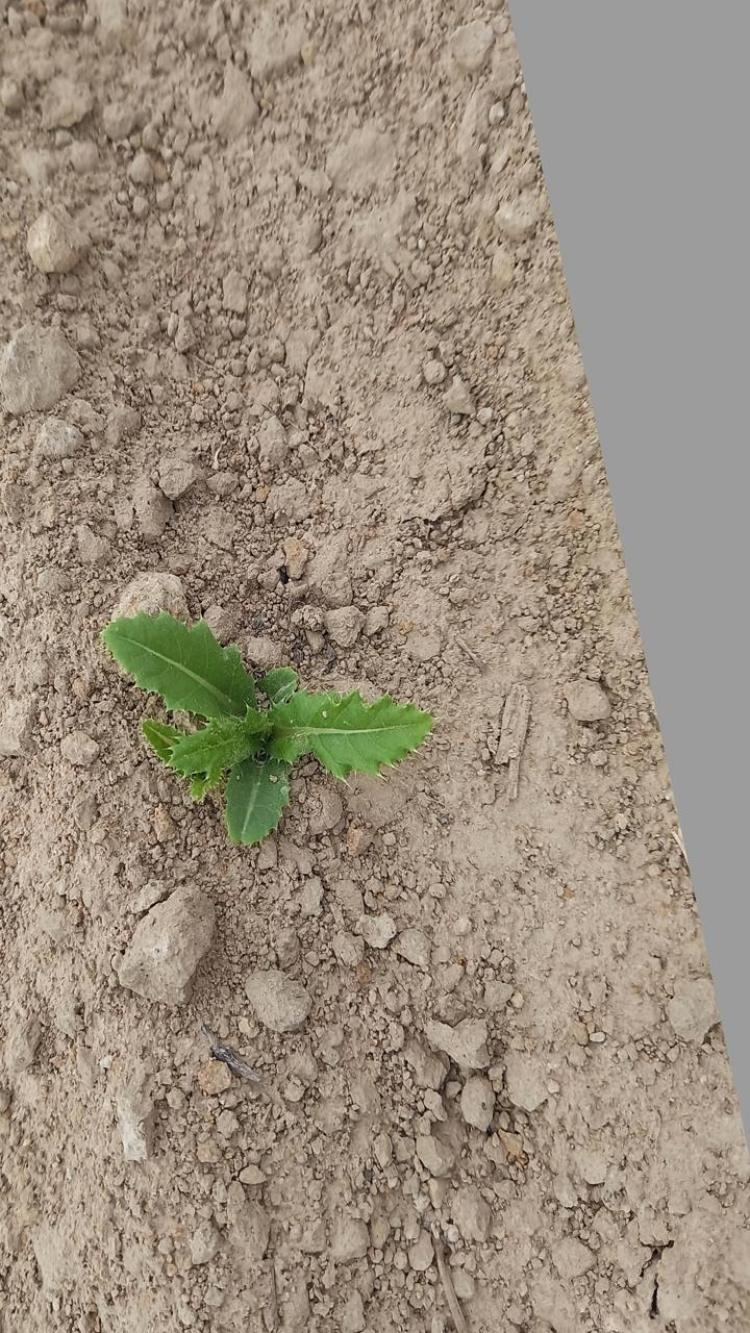bodyak: (106, 616, 440, 854)
